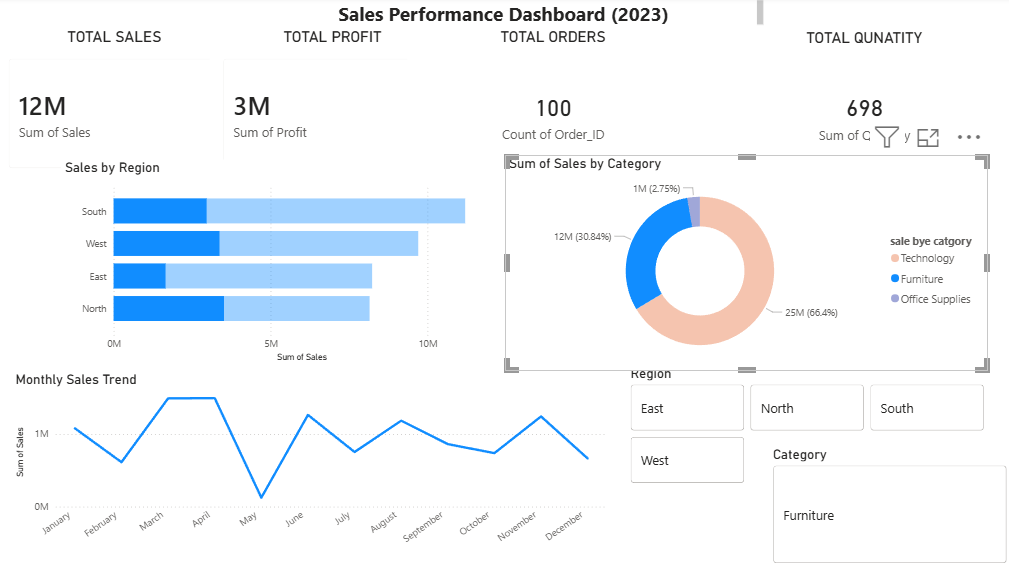

This screenshot's page, from the dashboard's own definition file:
{"tool":"powerbi","page":{"name":"Page 1","canvas":[1280,720],"ordinal":0},"visuals":[{"type":"cardVisual","title":"TOTAL SALES","fields":{"Data":["Sum(Sales_Data.Sales)"]},"box":[0,39.7,300.5,194.6],"z":0},{"type":"cardVisual","title":"TOTAL PROFIT","fields":{"Data":["Sum(Sales_Data.Profit)"]},"box":[270.2,39.7,309.9,194.6],"z":1},{"type":"card","title":"TOTAL ORDERS","fields":{"Values":["CountNonNull(Sales_Data.Order_ID)"]},"box":[519.7,39.7,366.6,196.5],"z":2},{"type":"clusteredBarChart","title":"Sales by Region","fields":{"Category":["Sales_Data.Region"],"Y":["Sum(Sales_Data.Sales)"]},"box":[83.2,206,557.5,258.9],"z":3},{"type":"lineChart","title":"Monthly Sales Trend","fields":{"Category":["Sales_Data.DateOrder_ID.Variation.Date Hierarchy.Month"],"Y":["Sum(Sales_Data.Sales)"]},"box":[20.8,472.4,754,247.6],"z":4},{"type":"donutChart","fields":{"Category":["Sales_Data.Category"],"Y":["Sum(Sales_Data.Sales)"]},"box":[642.5,200.3,608.5,272.1],"z":5},{"type":"advancedSlicerVisual","fields":{"Values":["Sales_Data.Region"]},"box":[795.6,464.9,455.4,155],"z":8},{"type":"advancedSlicerVisual","title":"                                Category","fields":{"Values":["Sales_Data.Category"]},"box":[975.1,566.9,304.3,153.1],"z":9},{"type":"card","title":"TOTAL QUNATITY","fields":{"Values":["Sum(Sales_Data.Quantity)"]},"box":[910.9,41.6,368.5,194.6],"z":10},{"type":"textbox","box":[309.9,0,663.3,41.6],"z":11}]}

Visuals, with their boxes in screenshot pixels (x1, y1, x2, y2), scaled from the page's 1280x720 canvas onto the 1009x564 screenshot:
"TOTAL SALES" cardVisual: bbox=[0, 31, 237, 184]
"TOTAL PROFIT" cardVisual: bbox=[213, 31, 457, 184]
"TOTAL ORDERS" card: bbox=[410, 31, 699, 185]
"Sales by Region" clusteredBarChart: bbox=[66, 161, 505, 364]
"Monthly Sales Trend" lineChart: bbox=[16, 370, 611, 563]
donutChart - Sales_Data.Category x Sum(Sales_Data.Sales): bbox=[506, 157, 986, 370]
advancedSlicerVisual - Sales_Data.Region: bbox=[627, 364, 986, 486]
"                                Category" advancedSlicerVisual: bbox=[769, 444, 1008, 563]
"TOTAL QUNATITY" card: bbox=[718, 33, 1008, 185]
textbox: bbox=[244, 0, 767, 33]
